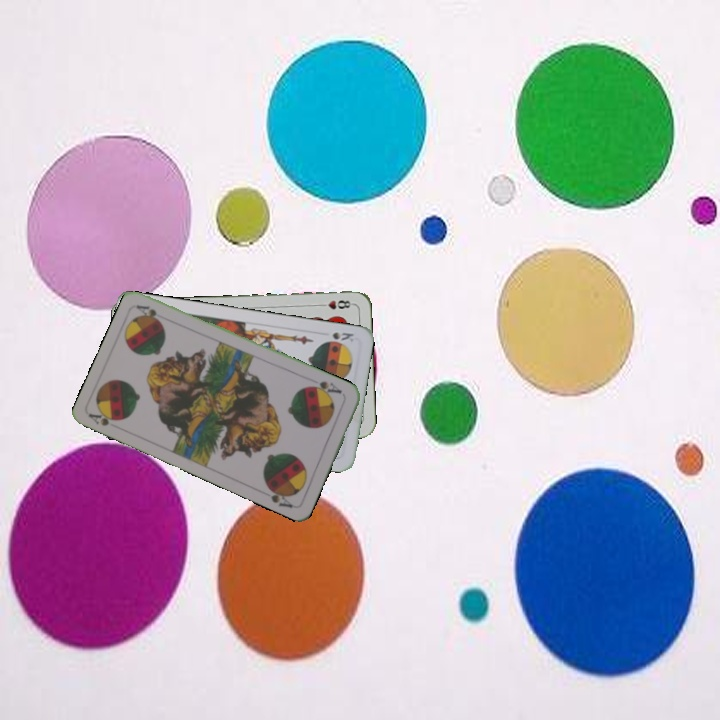H8: (314, 296, 355, 312)
SA: (306, 377, 347, 399), (86, 406, 124, 429)
SK: (328, 328, 356, 344)
